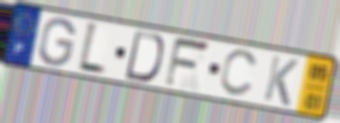C: (217, 49, 261, 100)
D: (122, 29, 166, 84)
F: (162, 35, 213, 90)
G: (35, 16, 78, 69)
K: (261, 53, 301, 108)
L: (75, 19, 107, 78)
